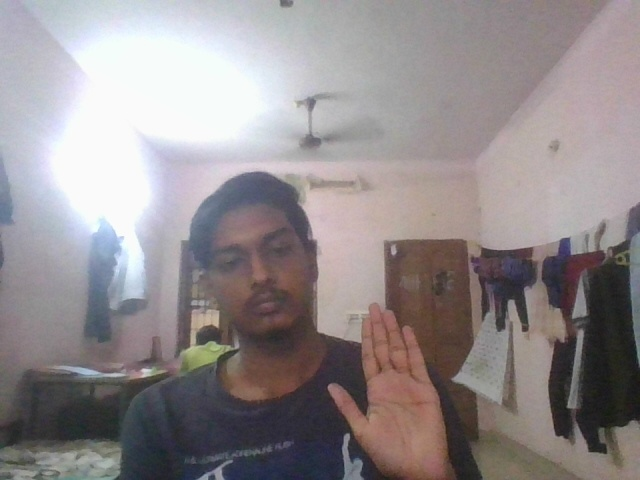hello: (324, 301, 452, 480)
